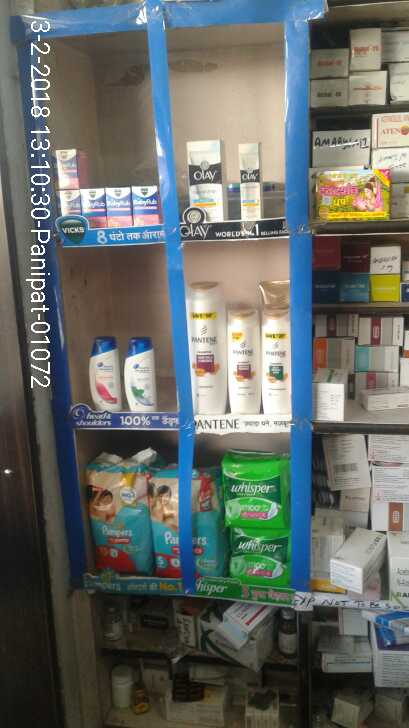beauty: (186, 274, 224, 417), (253, 305, 294, 431), (183, 133, 227, 228), (224, 308, 259, 416), (116, 336, 163, 414), (236, 145, 269, 227), (88, 333, 117, 410)
pharmacy: (141, 452, 211, 577), (84, 455, 152, 575), (224, 445, 297, 531), (59, 177, 153, 225), (220, 514, 284, 583), (41, 128, 81, 188)
